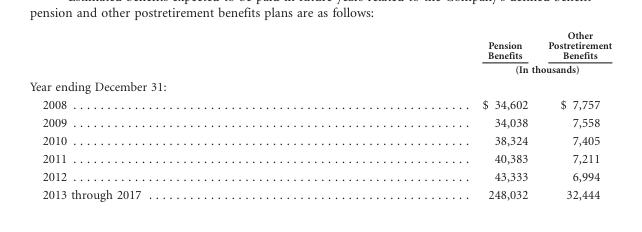table: (28, 29, 611, 200)
table column: (28, 29, 310, 200), (310, 29, 537, 200), (537, 29, 611, 200)
table column header: (28, 29, 611, 77)
table projected row header: (28, 77, 611, 95)
table row: (28, 29, 611, 62), (28, 77, 611, 95), (28, 95, 611, 113), (28, 113, 611, 131), (28, 131, 611, 149), (28, 149, 611, 167), (28, 167, 611, 184), (28, 184, 611, 200), (28, 62, 611, 77)
table spanning cell: (310, 62, 611, 77)
